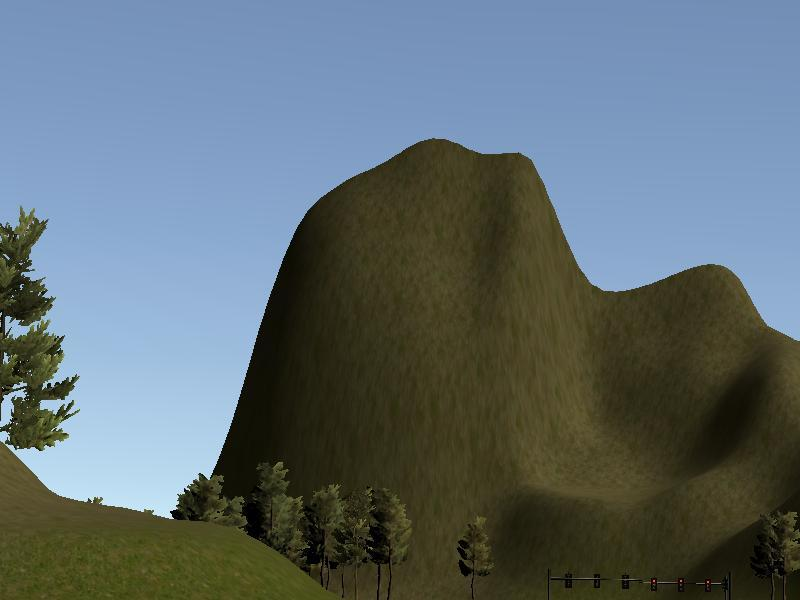Red: (649, 576, 658, 592), (677, 577, 685, 593), (704, 576, 711, 594)
